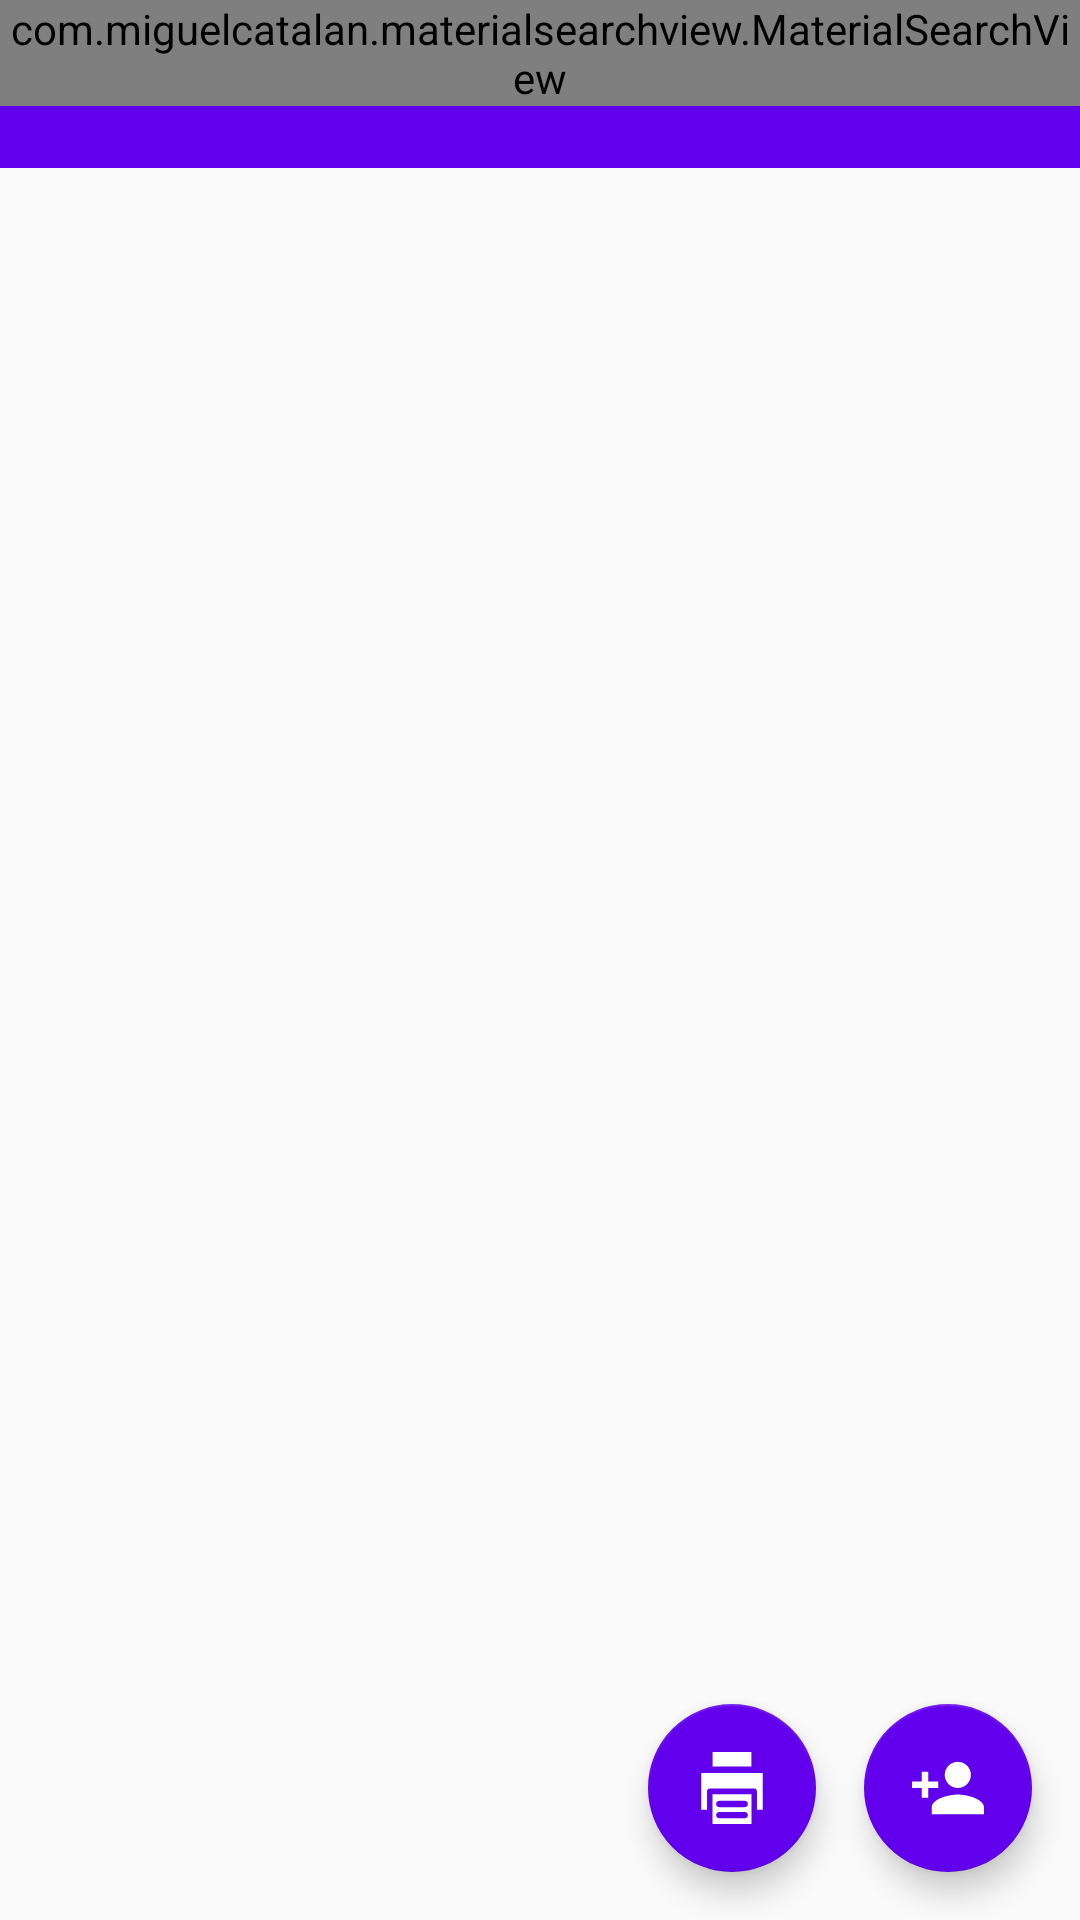

Icons on this 1080 × 1920 Android screen, each with the point to tap as point (x, y):
add contact: point (948, 1788)
printer: point (732, 1788)
